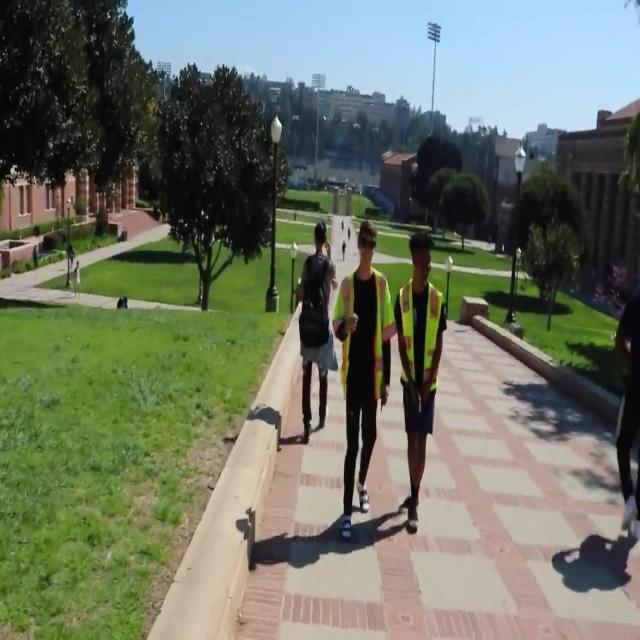Reflective-Jacket: (334, 268, 392, 402), (393, 276, 449, 412)
